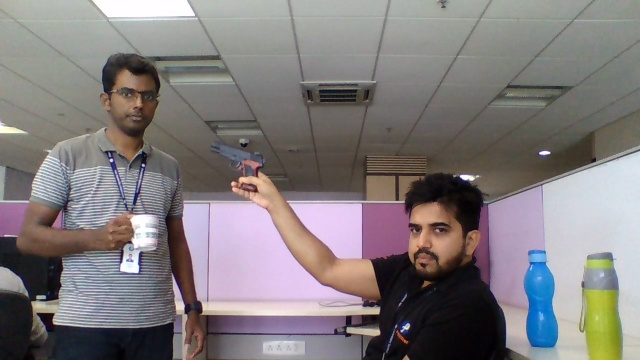gun: (207, 148, 263, 172)
